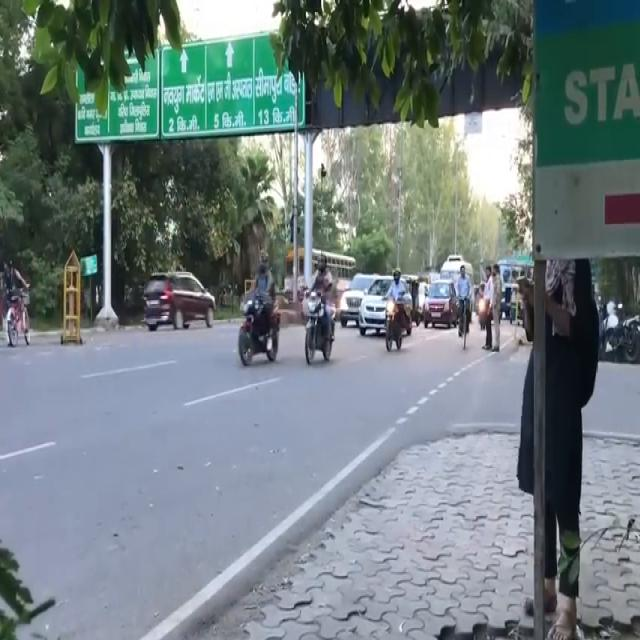MOTORCYCLE: (239, 286, 284, 368), (306, 288, 338, 364), (385, 296, 402, 352)
